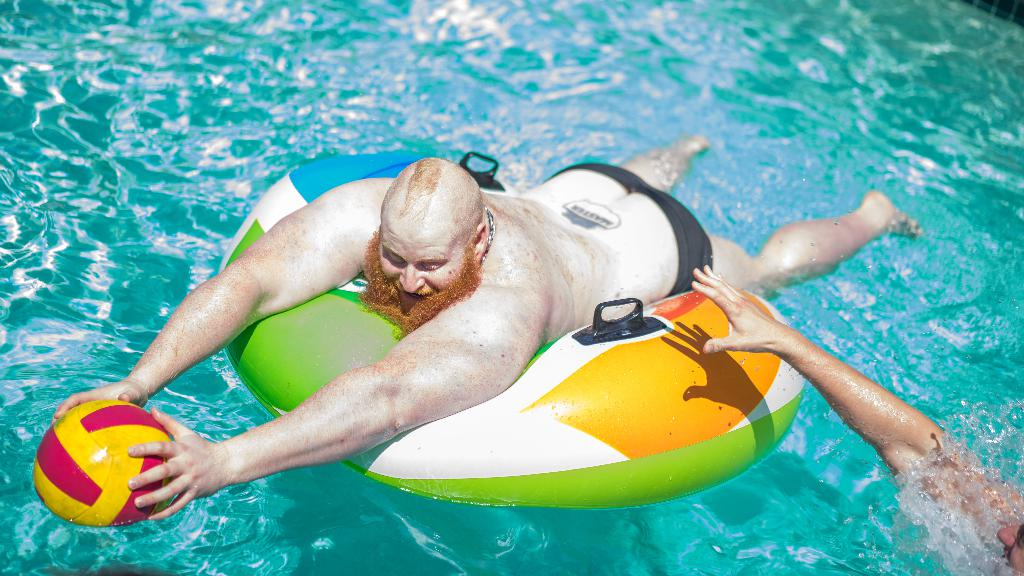Person: (52, 132, 918, 518), (690, 264, 1024, 576)
